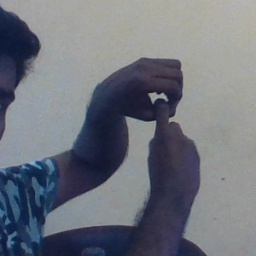Q: (93, 51, 205, 177)
